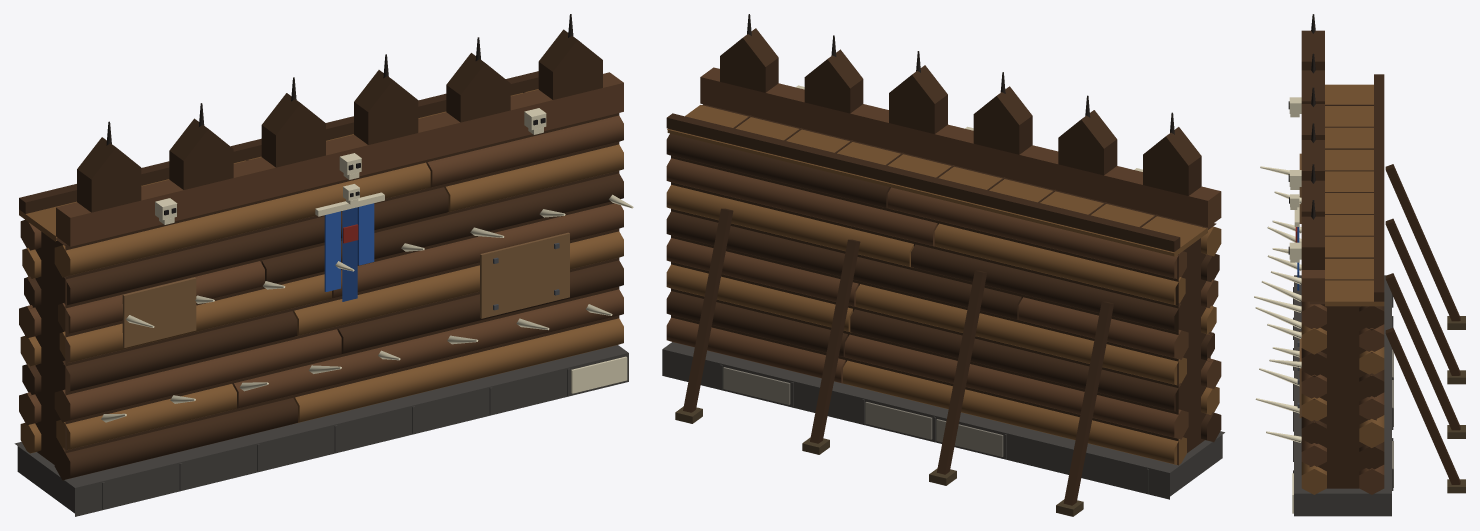
File: orc-timber-wall-segment.glb
The picture shows the model from 3 angles, left to right: view 1: azimuth 30°, elevation 25°; view 2: azimuth 150°, elevation 25°; view 3: azimuth 270°, elevation 25°; orthographic projection. The views are drawn at different scales.
Visible parts, largest first — view 1: orc-timber-wall-segment; view 2: orc-timber-wall-segment; view 3: orc-timber-wall-segment.
Boxes of the visible parts, x1,y1,x2,y2 form: orc-timber-wall-segment: (14,14,633,516); orc-timber-wall-segment: (662,14,1224,516); orc-timber-wall-segment: (1254,14,1465,516).
Size of the model in its own units: 10 by 6.47 by 4.11.
1 material, 1 textured.
